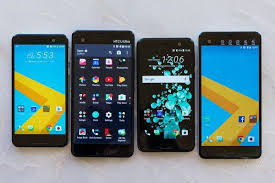htc: (68, 27, 135, 160), (196, 28, 263, 160), (134, 35, 196, 154), (9, 32, 69, 149)
